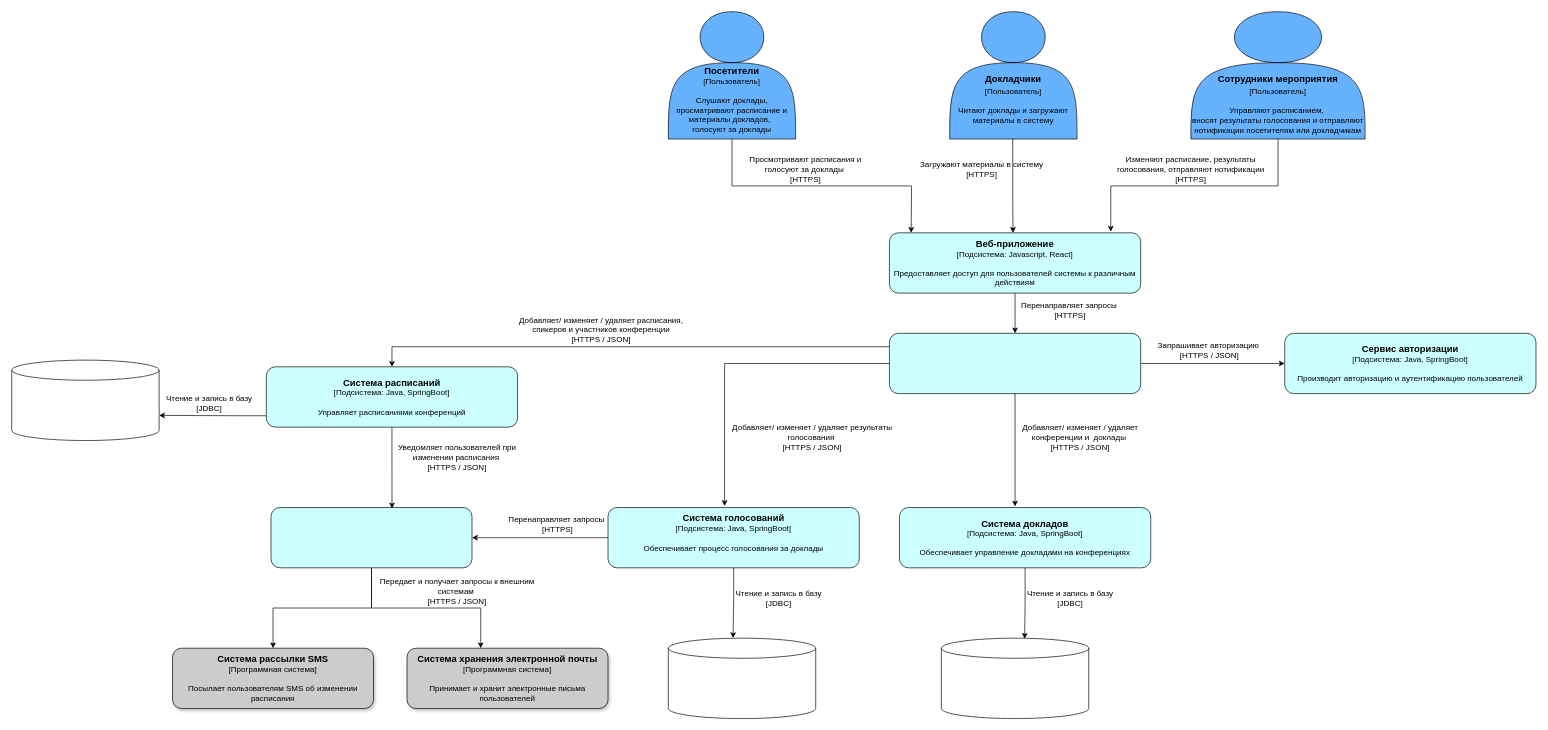
The diagram is 1548 pixels wide and 730 high, and some of its shapes have lost their labels. The centre of each missing label's shape, as x and y in pixels:
"База данных [Подсистема: PostgreSQL] Хранит данные о конференциях и докладах" belongs at pixel 1015 678.
"База данных [Подсистема: PostgreSQL] Хранит данные о расписаниях" belongs at pixel 85 400.
"База данных [Подсистема: PostgreSQL] Хранит данные о результатах голосования" belongs at pixel 742 678.
"Балансировщик соединений [Подсистема: Nginx ] Производит балансировку нагрузки" belongs at pixel 371 537.
"Балансировщик соединений [Подсистема: Nginx] Производит балансировку нагрузки" belongs at pixel 1015 363.
